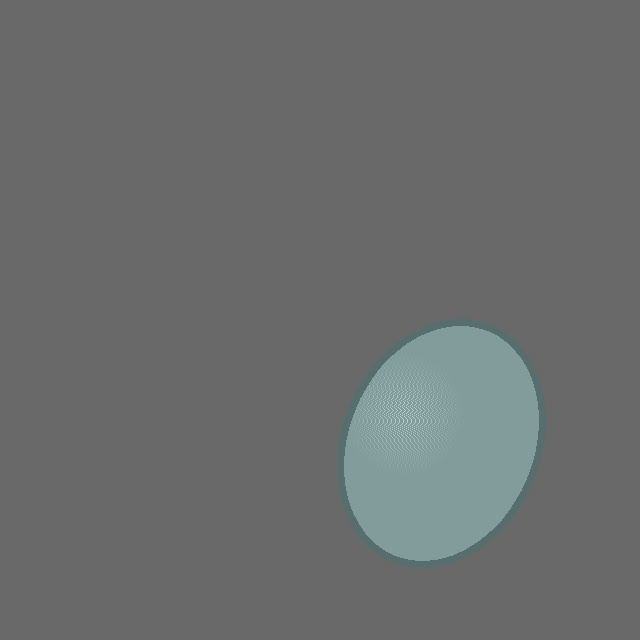lens: (340, 322, 542, 564)
